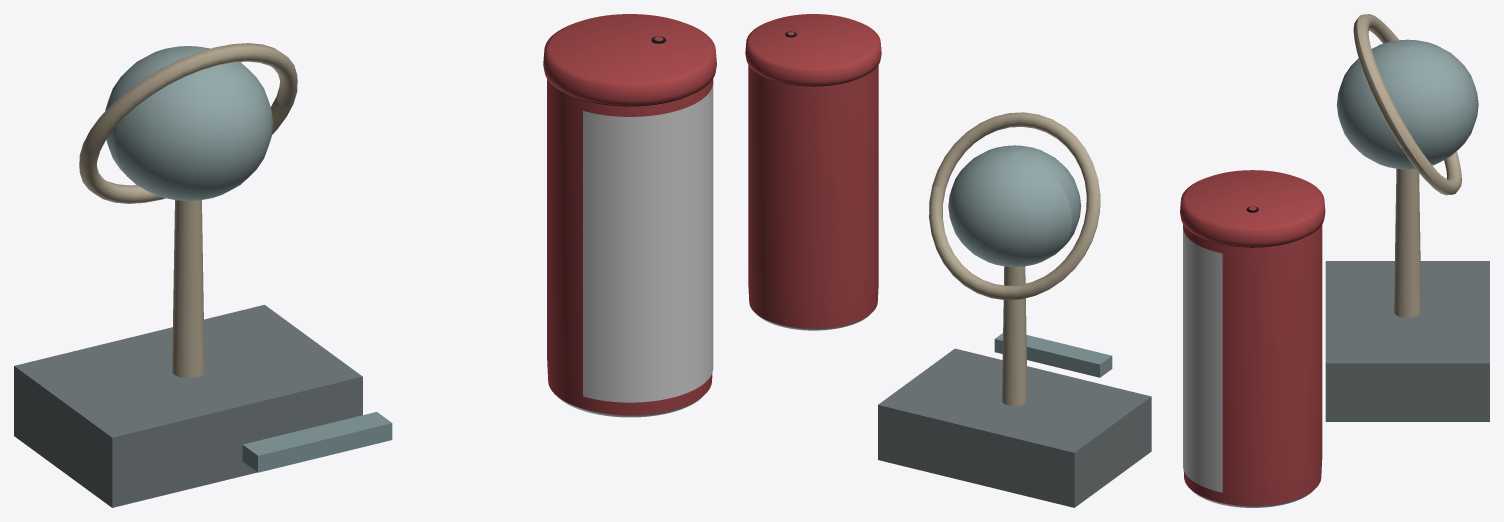
File: mcdonalds-collectible.glb
3 renders of one model, left to right at view 1: azimuth 30°, elevation 25°; view 2: azimuth 150°, elevation 25°; view 3: azimuth 270°, elevation 25°, orthographic. The views are drawn at different scales.
Parts seen in each view (by area): view 1: PublicNeutral_KineticBase, Cup curved photograph print, PublicNeutral_KineticOrb, Cup red printed outer coating, NayukiCupLid Nayuki printed red metal tumbler exterior, PublicNeutral_KineticRing, PublicNeutral_KineticStem, PublicNeutral_LegacyFoldSample; view 2: Cup red printed outer coating, PublicNeutral_KineticBase, PublicNeutral_KineticOrb, NayukiCupLid Nayuki printed red metal tumbler exterior, PublicNeutral_KineticRing, PublicNeutral_KineticStem, PublicNeutral_LegacyFoldSample; view 3: Cup red printed outer coating, PublicNeutral_KineticBase, PublicNeutral_KineticOrb, Cup curved photograph print, NayukiCupLid Nayuki printed red metal tumbler exterior, PublicNeutral_KineticRing, PublicNeutral_KineticStem.
Boxes of the visible parts, x1,y1,x2,y2 form: PublicNeutral_KineticBase: (14, 305, 362, 507); Cup curved photograph print: (583, 84, 713, 402); PublicNeutral_KineticOrb: (105, 46, 273, 200); Cup red printed outer coating: (547, 79, 713, 415); NayukiCupLid Nayuki printed red metal tumbler exterior: (543, 14, 716, 105); PublicNeutral_KineticRing: (79, 43, 297, 203); PublicNeutral_KineticStem: (172, 200, 204, 377); PublicNeutral_LegacyFoldSample: (242, 412, 392, 472); Cup red printed outer coating: (748, 65, 878, 328); PublicNeutral_KineticBase: (878, 348, 1151, 507); PublicNeutral_KineticOrb: (948, 145, 1081, 266); NayukiCupLid Nayuki printed red metal tumbler exterior: (745, 14, 881, 85); PublicNeutral_KineticRing: (929, 112, 1100, 300); PublicNeutral_KineticStem: (1002, 266, 1027, 405); PublicNeutral_LegacyFoldSample: (994, 333, 1112, 377); Cup red printed outer coating: (1183, 224, 1322, 505); PublicNeutral_KineticBase: (1325, 261, 1489, 421); PublicNeutral_KineticOrb: (1336, 39, 1478, 169); Cup curved photograph print: (1183, 229, 1222, 492); NayukiCupLid Nayuki printed red metal tumbler exterior: (1180, 170, 1325, 246); PublicNeutral_KineticRing: (1353, 14, 1461, 195); PublicNeutral_KineticStem: (1394, 168, 1421, 317).
Size of the model in its own units: 0.614 by 0.4417 by 0.3582.
